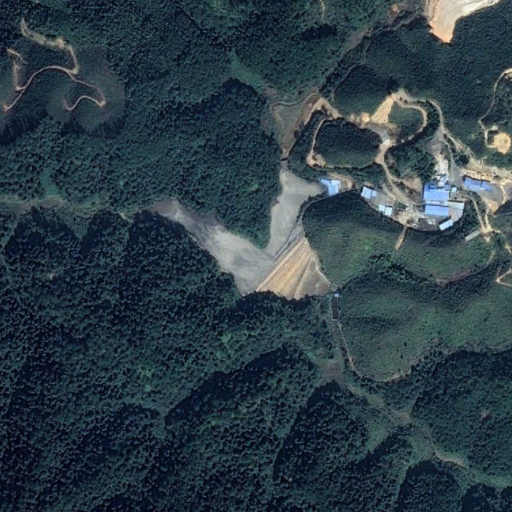tp: (139, 166, 344, 301)
